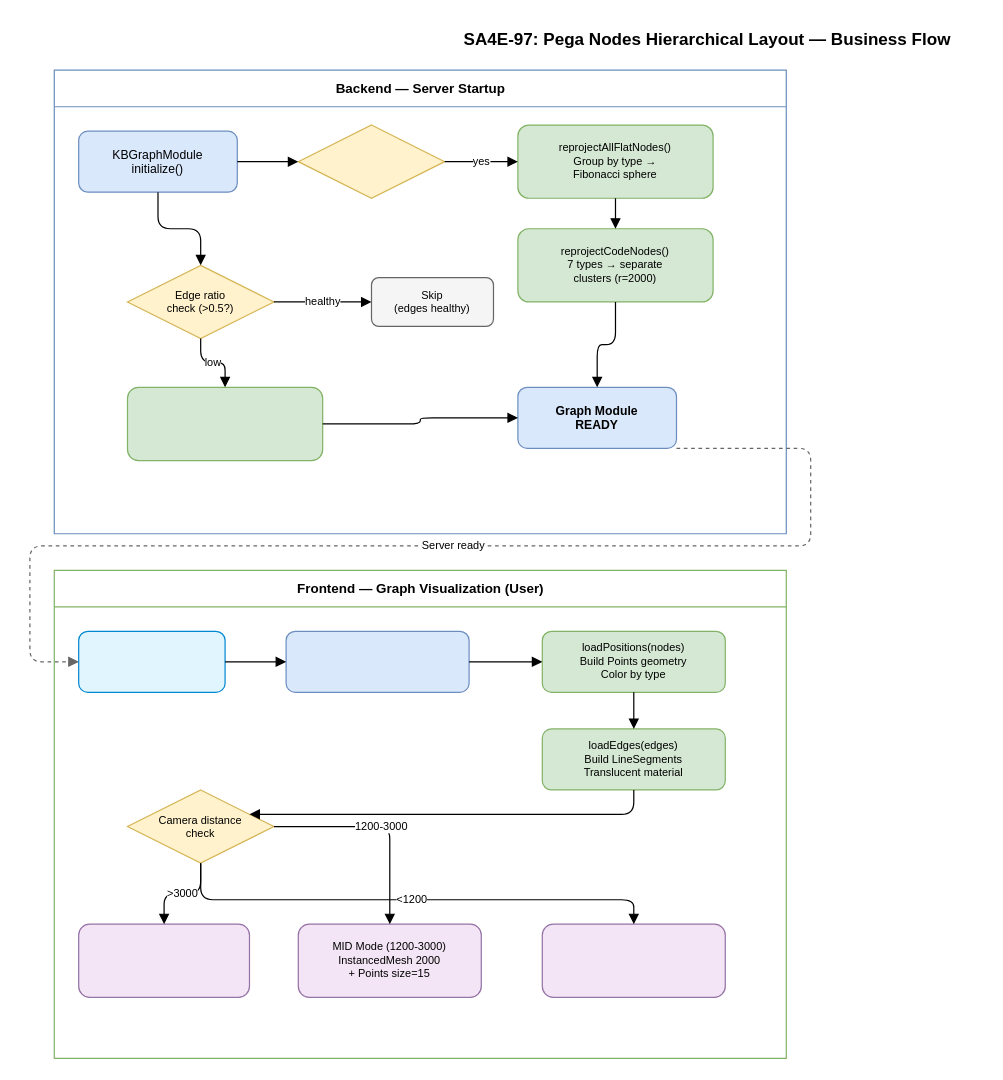
The diagram is 1003 pixels wide and 1080 high, and some of its shapes have lost their labels. The shapes that lost their labels are listed below. From the top down, each one's centre as x and y in pixels, then its label:
At [371,161]: "Detect flat nodes (z=0)".
At [224,423]: "reconcileAllEdges() Parse rule JSON → INSERT edges".
At [151,661]: "User opens KB Graph View".
At [377,661]: "Fetch /api/graph/spatial → nodes[] + edges[]".
At [163,960]: "FAR Mode (>3000) Points size=30 Edges opacity=0.15".
At [633,960]: "CLOSE Mode (<1200) 500 Meshes + Labels + Points size=12".
